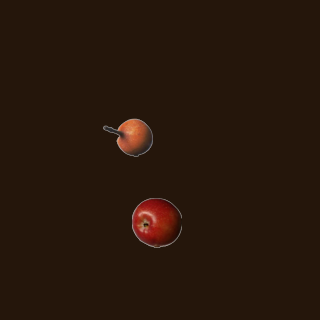Apple Braeburn: (131, 197, 181, 247)
Granadilla: (102, 112, 152, 162)
